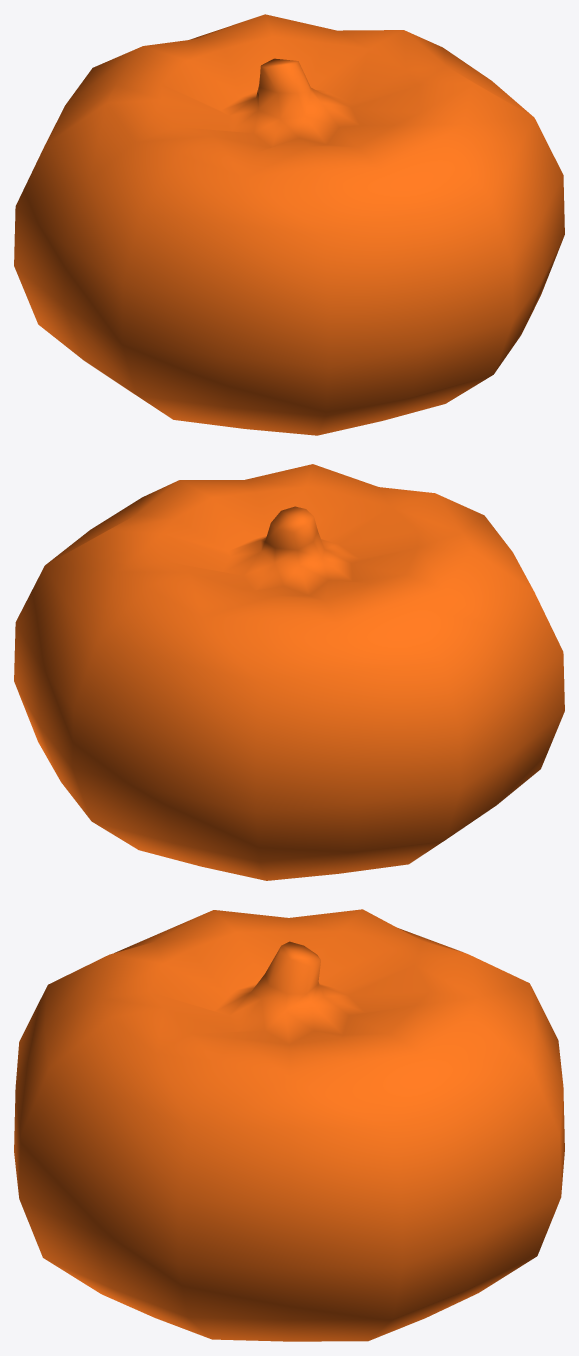
The model's file is Pumpkin Mini LP (No Carving).obj.
3 views of the same model, one above another, from view 1: azimuth 30°, elevation 25°; view 2: azimuth 150°, elevation 25°; view 3: azimuth 270°, elevation 25° (orthographic). The views are drawn at different scales.
Visible parts, largest first — view 1: Main_Pumpkin_Mini_LP; view 2: Main_Pumpkin_Mini_LP; view 3: Main_Pumpkin_Mini_LP.
Part boxes in pixels (box(x1,y1,x2,y2)): Main_Pumpkin_Mini_LP: box(14, 14, 564, 435); Main_Pumpkin_Mini_LP: box(14, 464, 564, 880); Main_Pumpkin_Mini_LP: box(14, 909, 564, 1341).
Bounding box in the file's own units: 0.6283 × 0.3964 × 0.6284.
Materials: 1 (1 with a texture image).
